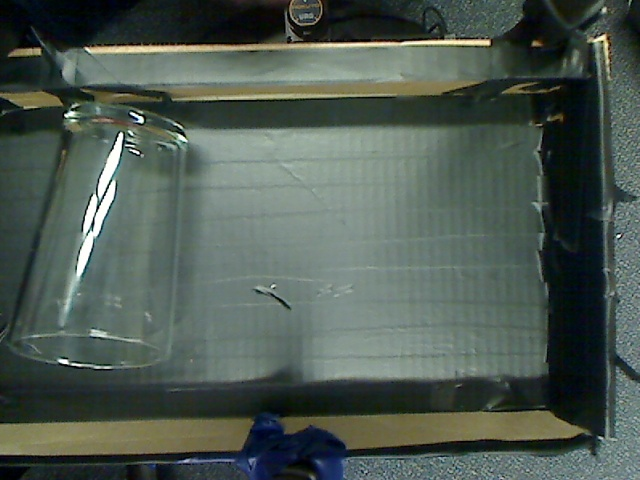cup: (1, 87, 225, 408)
